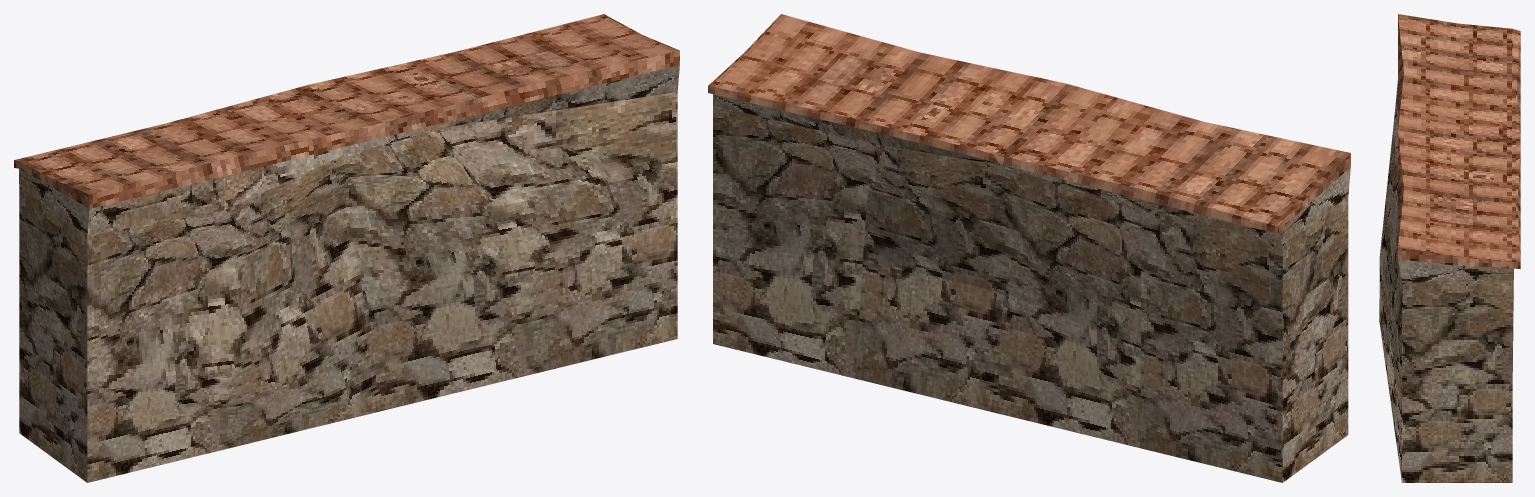
File: drystone_wall_tiles.glb
3 renders of one model, left to right at view 1: azimuth 30°, elevation 25°; view 2: azimuth 150°, elevation 25°; view 3: azimuth 270°, elevation 25°, orthographic. The views are drawn at different scales.
Visible parts, largest first — view 1: drystone_wall_tiles; view 2: drystone_wall_tiles; view 3: drystone_wall_tiles.
Part boxes in pixels (x1,y1,x2,y2): drystone_wall_tiles: (14, 14, 679, 482); drystone_wall_tiles: (708, 14, 1350, 482); drystone_wall_tiles: (1379, 14, 1520, 482).
Size of the model in its own units: 2.51 by 1.17 by 0.6393.
2 materials, 2 textured.
